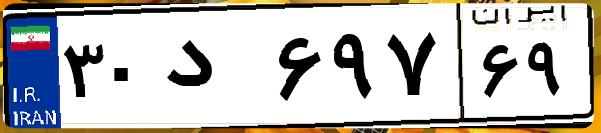0: (110, 28, 158, 98)
3: (57, 26, 110, 100)
6: (270, 28, 330, 110), (475, 38, 525, 113)
7: (385, 28, 445, 110)
9: (330, 28, 385, 110), (525, 38, 570, 115)
د: (158, 20, 270, 120)
